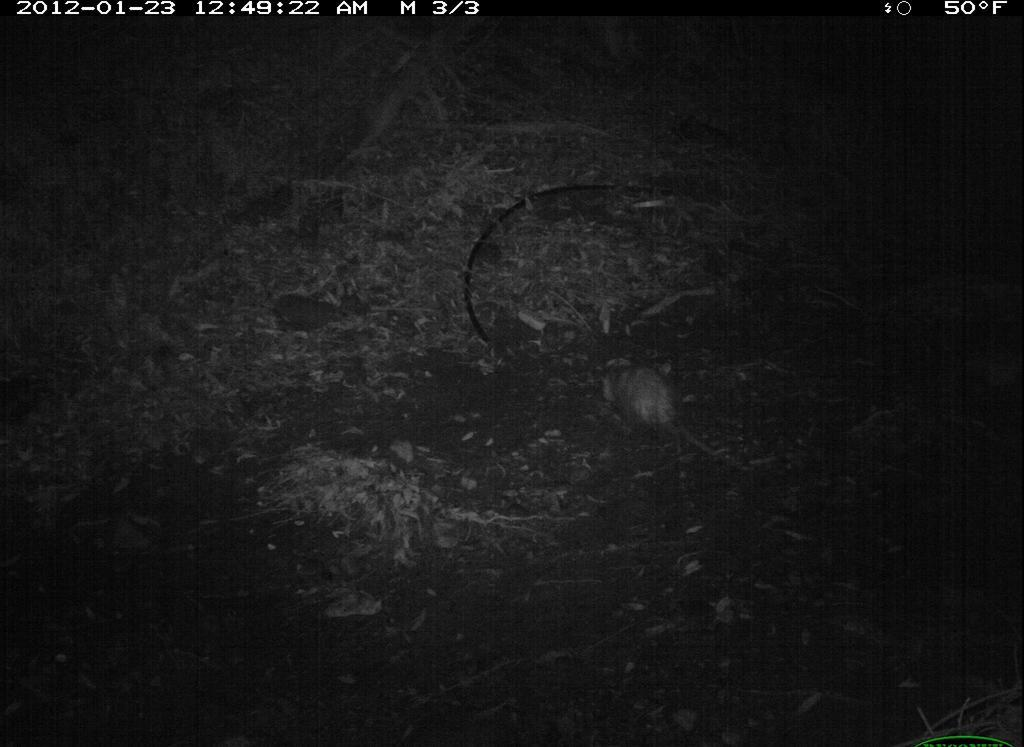opossum: (588, 346, 742, 472)
